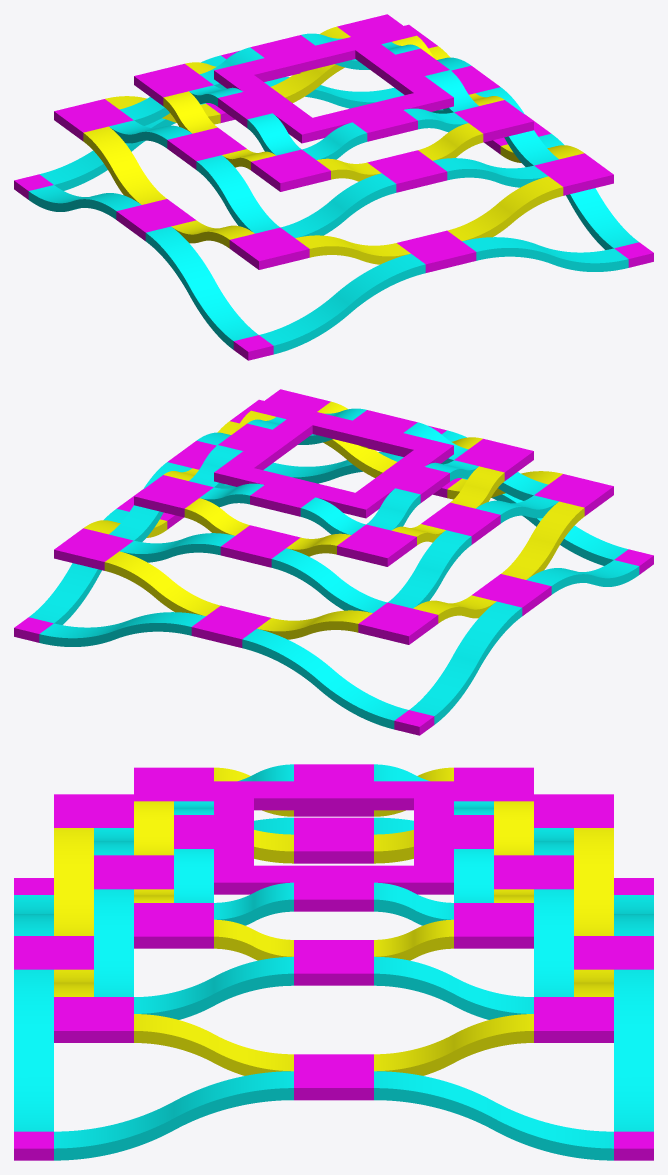
3 views of the same model, one above another, from view 1: azimuth 30°, elevation 25°; view 2: azimuth 150°, elevation 25°; view 3: azimuth 270°, elevation 25° (orthographic). The views are drawn at different scales.
Visible parts, largest first — view 1: model; view 2: model; view 3: model.
Boxes of the visible parts, left/top/right/bottom form: model: left=14, top=14, right=653, bottom=360; model: left=14, top=389, right=653, bottom=735; model: left=14, top=764, right=653, bottom=1160.
Bounding box in the file's own units: 48 × 16 × 48.
